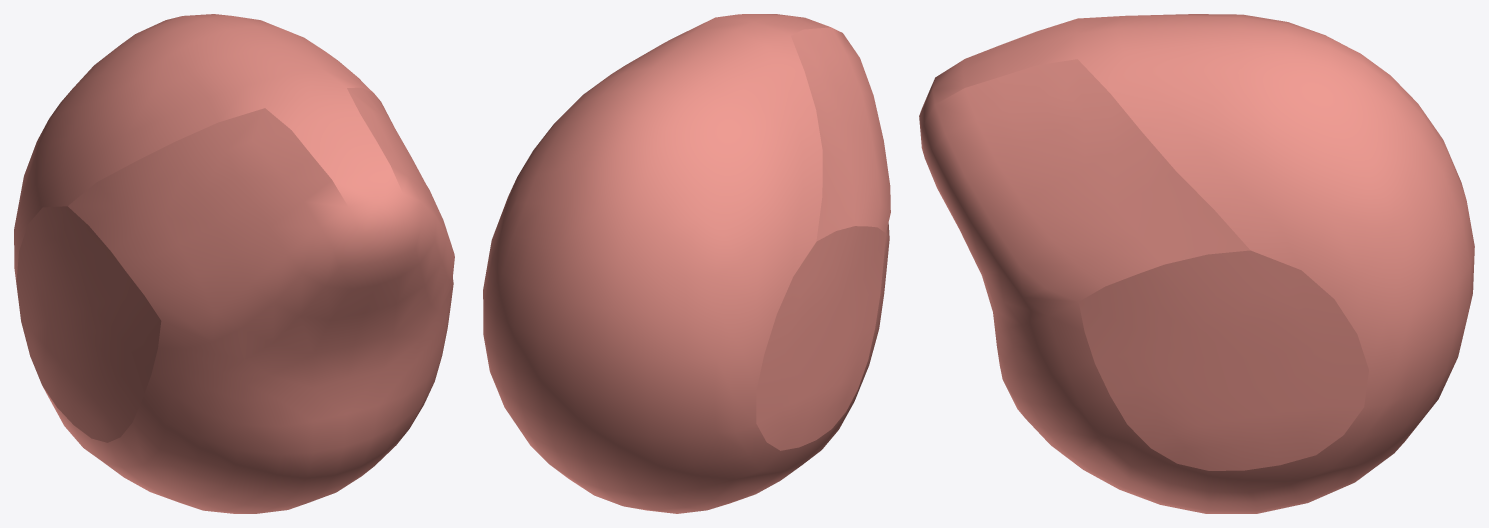
Rendered from mixamo_humanoid_surface_head.fbx.
The picture shows the model from 3 angles, left to right: view 1: azimuth 30°, elevation 25°; view 2: azimuth 150°, elevation 25°; view 3: azimuth 270°, elevation 25°; orthographic projection. The views are drawn at different scales.
Parts seen in each view (by area): view 1: surface_Head; view 2: surface_Head; view 3: surface_Head.
Part boxes in pixels (left/top/right/bottom): surface_Head: left=14, top=14, right=454, bottom=513; surface_Head: left=483, top=14, right=890, bottom=513; surface_Head: left=919, top=14, right=1474, bottom=513.
Size of the model in its own units: 17.61 by 24.85 by 26.65.
